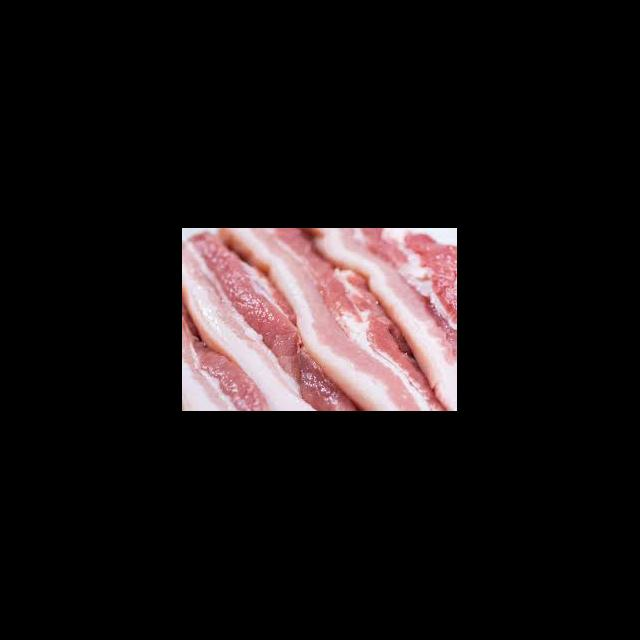pork: (287, 264, 394, 410), (368, 228, 458, 368), (183, 231, 267, 360)
